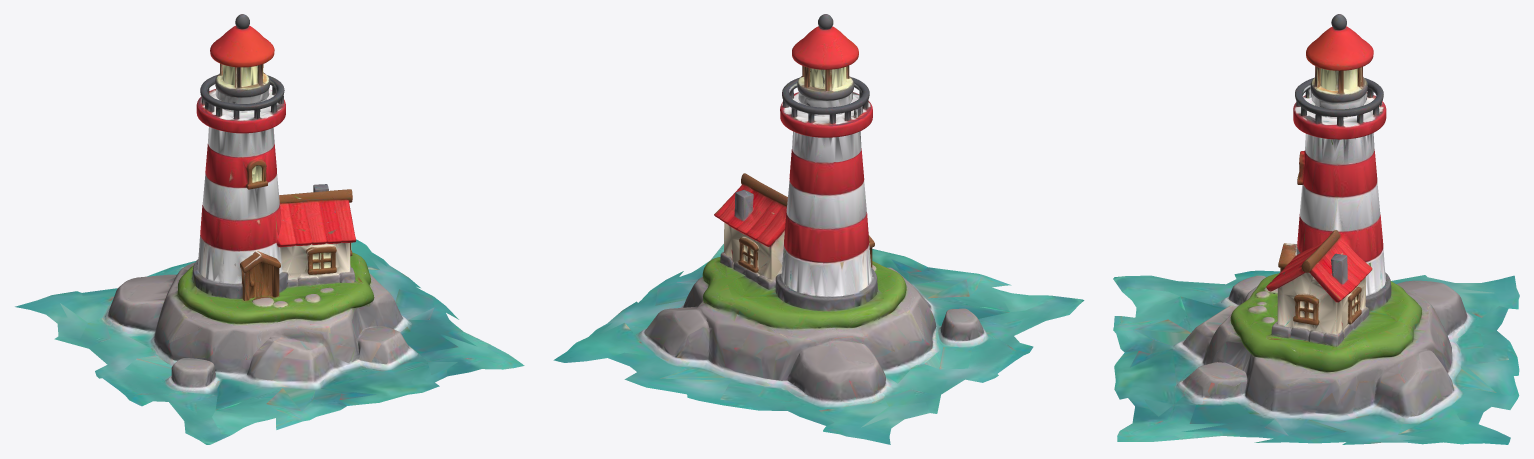
File: m_lighthouse_animated.glb
3 renders of one model, left to right at view 1: azimuth 30°, elevation 25°; view 2: azimuth 150°, elevation 25°; view 3: azimuth 270°, elevation 25°, orthographic. The views are drawn at different scales.
Parts seen in each view (by area): view 1: m_lighthouse_Living_Scenery; view 2: m_lighthouse_Living_Scenery; view 3: m_lighthouse_Living_Scenery.
Boxes of the visible parts, x1,y1,x2,y2 form: m_lighthouse_Living_Scenery: (15,14,524,444); m_lighthouse_Living_Scenery: (553,14,1084,444); m_lighthouse_Living_Scenery: (1113,14,1519,444).
Bounding box in the file's own units: 0.9478 × 0.8612 × 0.9377.
Materials: 1 (1 with a texture image).
